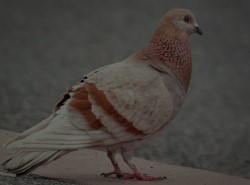pigeon: (4, 6, 203, 182)
